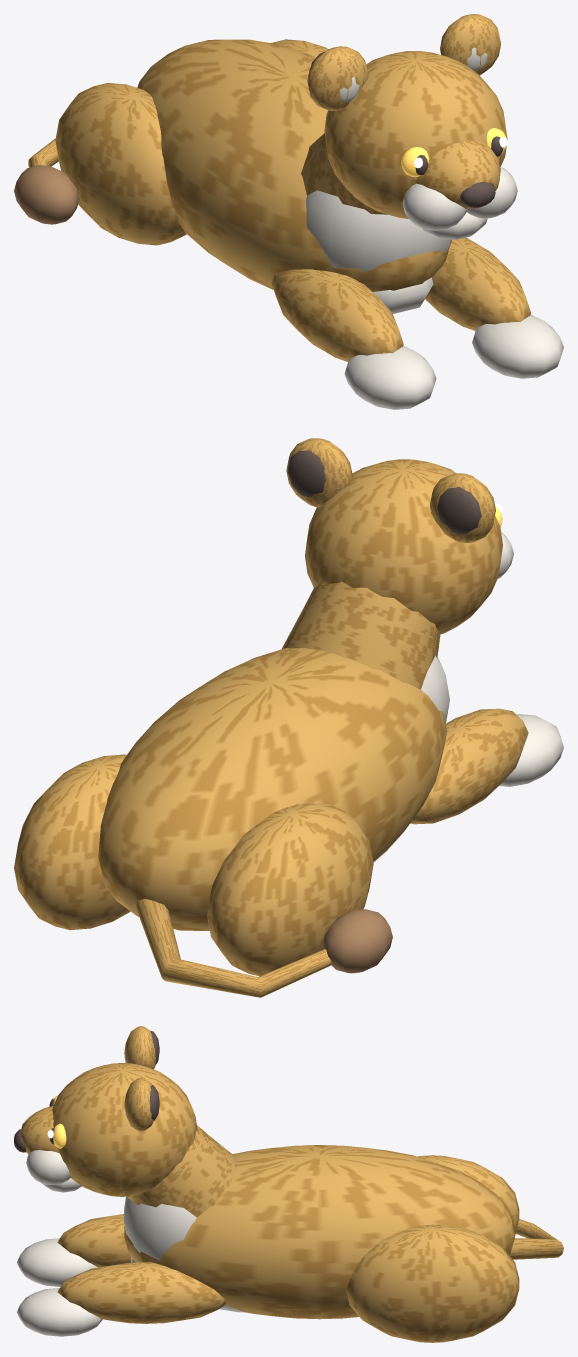
Rendered from anime_lioness.glb.
3 renders of one model, top to bottom at view 1: azimuth 30°, elevation 25°; view 2: azimuth 150°, elevation 25°; view 3: azimuth 270°, elevation 25°, orthographic. The views are drawn at different scales.
Visible parts, largest first — view 1: anime_lioness; view 2: anime_lioness; view 3: anime_lioness.
Boxes of the visible parts, box(x1,y1,x2,y2) form: anime_lioness: box(14, 14, 563, 409); anime_lioness: box(14, 438, 563, 997); anime_lioness: box(14, 1026, 563, 1342).
Bounding box in the file's own units: 1.3 × 1.2 × 2.34.
Materials: 6 (1 with a texture image).
